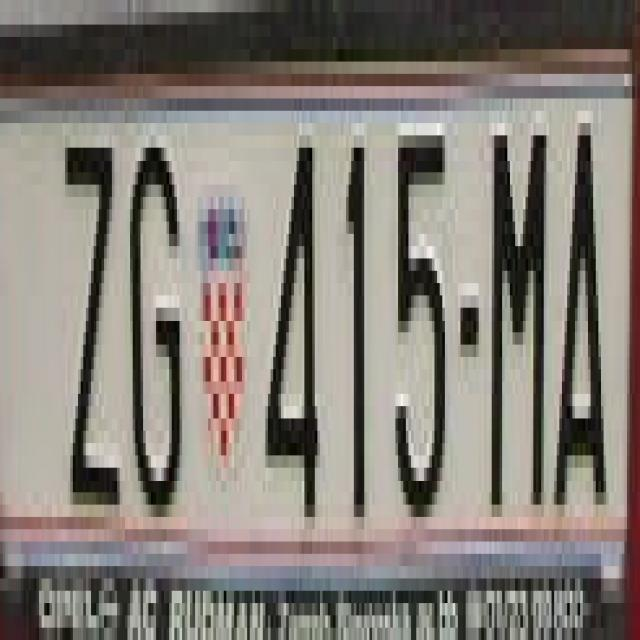1: (338, 111, 369, 517)
4: (263, 111, 325, 517)
5: (382, 98, 448, 530)
A: (549, 99, 619, 492)
G: (128, 111, 184, 517)
M: (486, 86, 546, 505)
Z: (57, 111, 120, 517)
